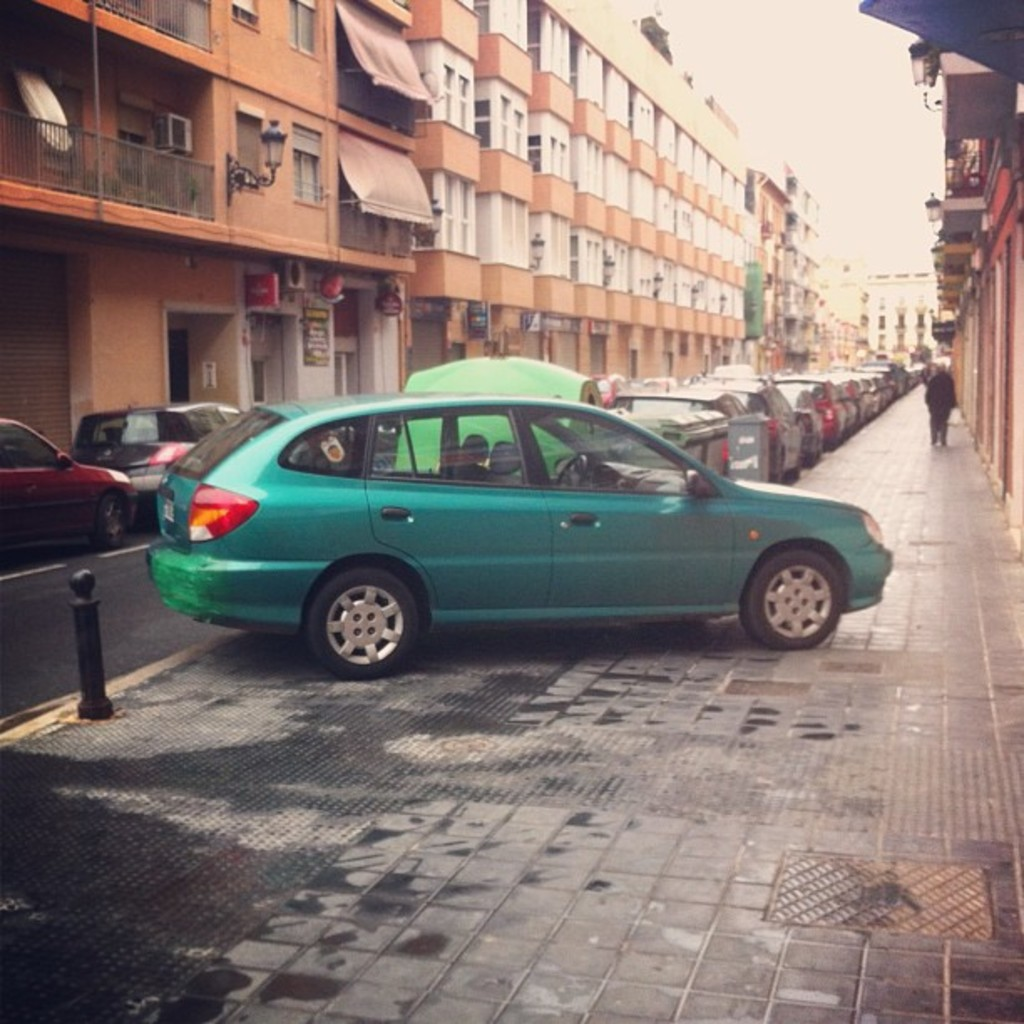cars: (0, 344, 896, 682)
